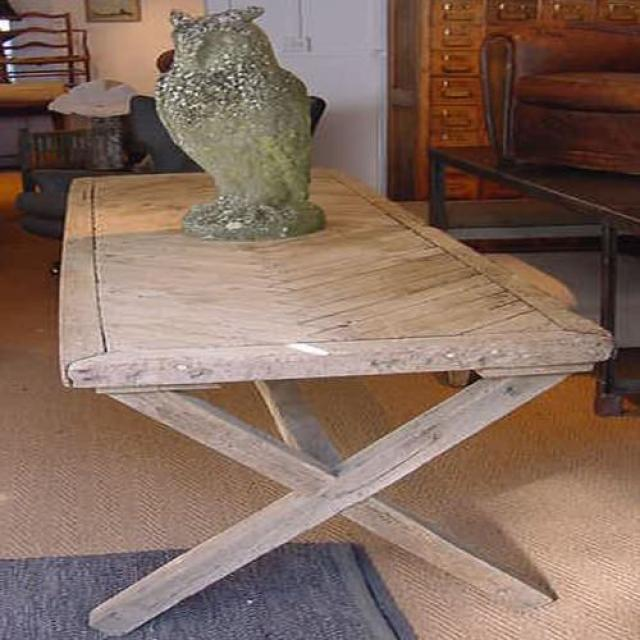table: (58, 169, 613, 640)
